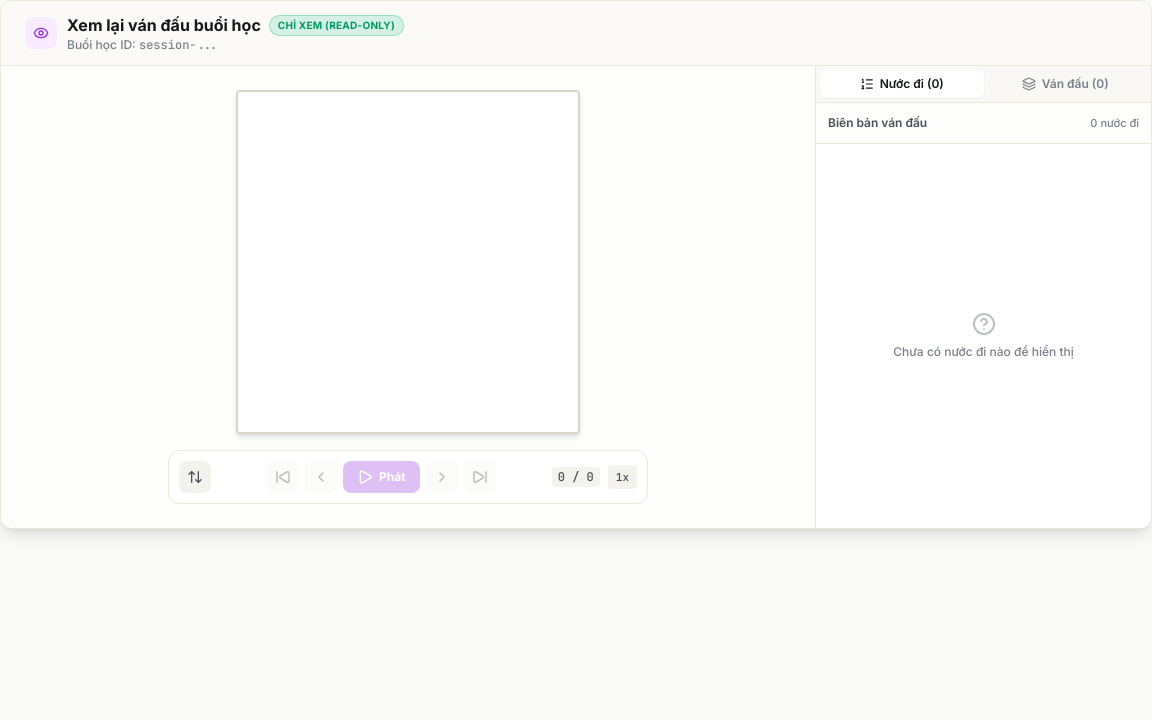
TASK 9.3 — Session Chess Game Replay UI › 1. Session game list (loading, empty, success, error) › shows error state when fetching games fails and allows retry
This screenshot has width=1152, height=720.
Click the button with test id "replay-tab-games" at [1065, 84], box [984,70,1147,98]
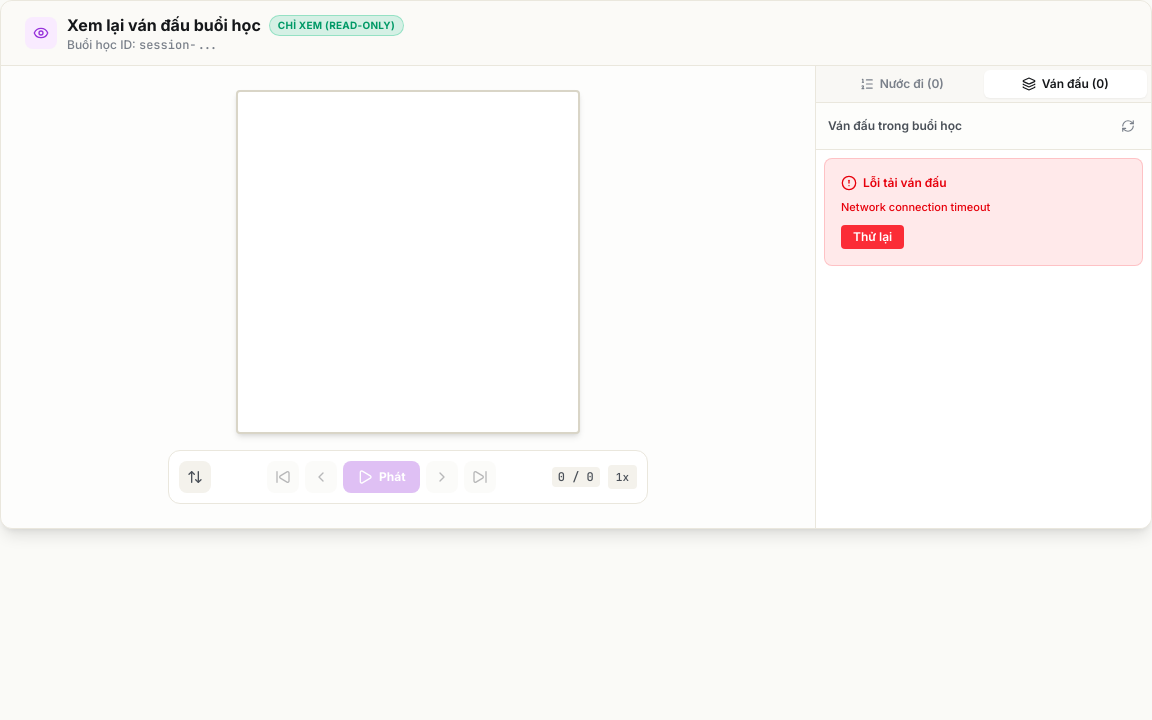
expect the element with test id "replay-games-error" is shown: met, box [824,158,1143,266]
expect the text "Network connection timeout" is shown: met, box [841,200,990,214]
Click retry button
Click the button "Thử lại" at [873, 237], box [841,225,904,249]
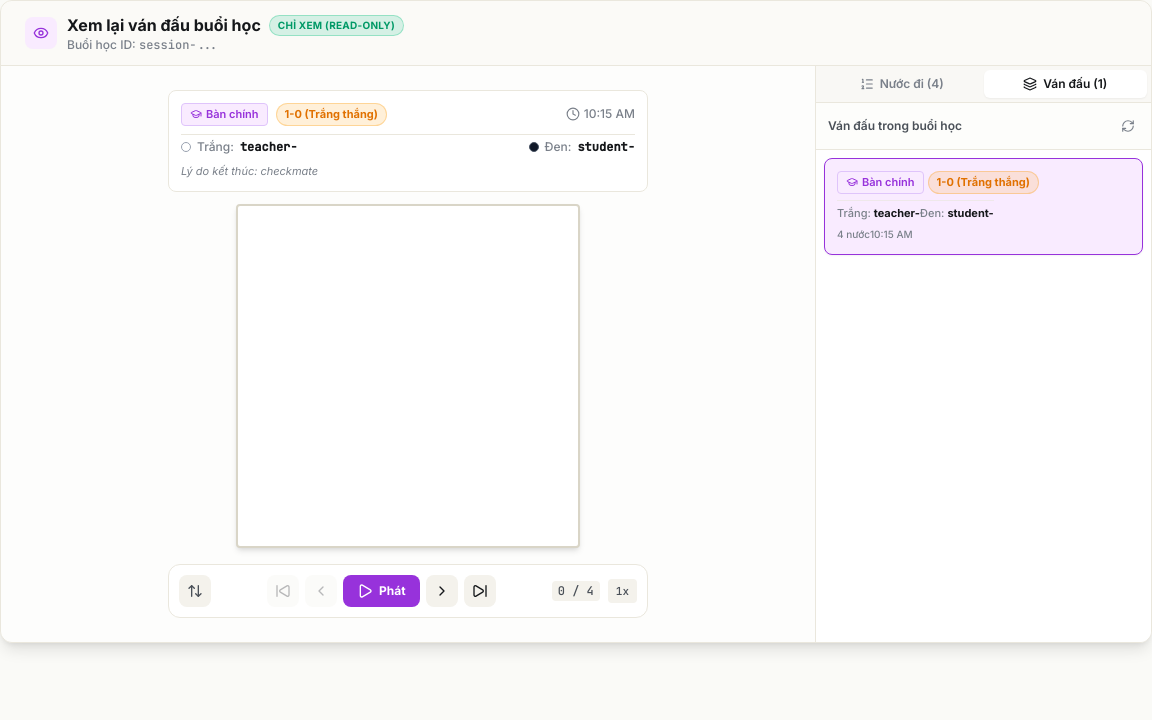
expect the button with test id "replay-game-card-game-1" is shown: met, box [824,158,1143,255]
